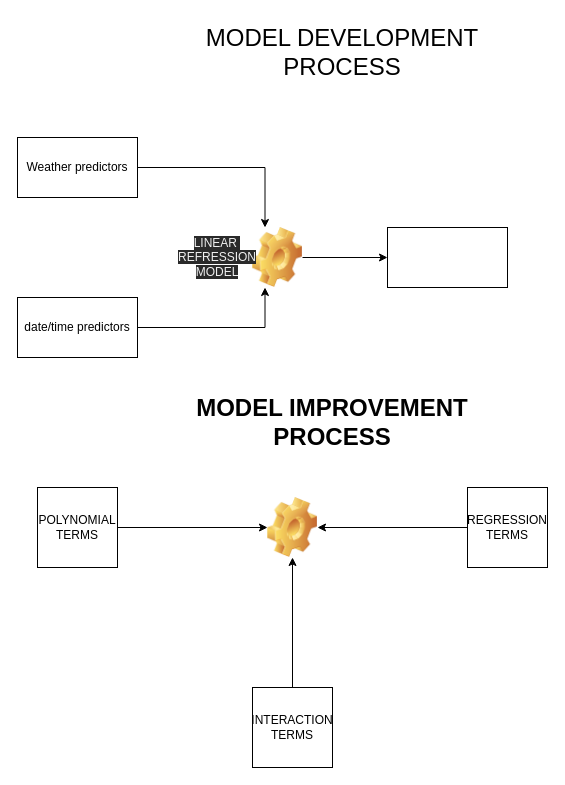
Image size: 565x785. Some labels were removed from this diagram. The centre of each missing label's shape, as x and y in pixels:
BIKE SHARING COUNT: [447,257]
MODEL: [292,527]
